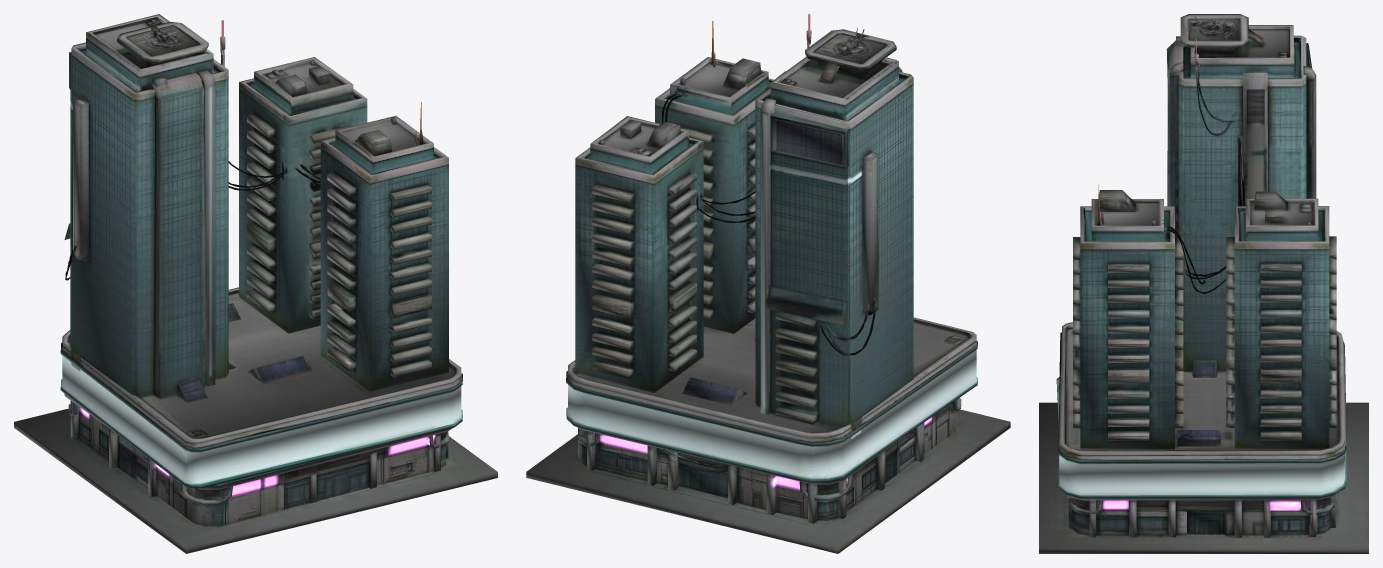
Rendered from city_highrise.glb.
3 renders of one model, left to right at view 1: azimuth 30°, elevation 25°; view 2: azimuth 150°, elevation 25°; view 3: azimuth 270°, elevation 25°, orthographic. The views are drawn at different scales.
Parts seen in each view (by area): view 1: Body, Glow; view 2: Body, Glow; view 3: Body, Glow.
Boxes of the visible parts, bbox=[...] form: Body: bbox=[14, 14, 497, 553]; Glow: bbox=[135, 433, 441, 499]; Body: bbox=[526, 14, 1010, 553]; Glow: bbox=[597, 399, 957, 508]; Body: bbox=[1039, 14, 1368, 553]; Glow: bbox=[1089, 500, 1308, 511].
Size of the model in its own units: 44.03 by 60 by 42.15.
2 materials, 2 textured.
